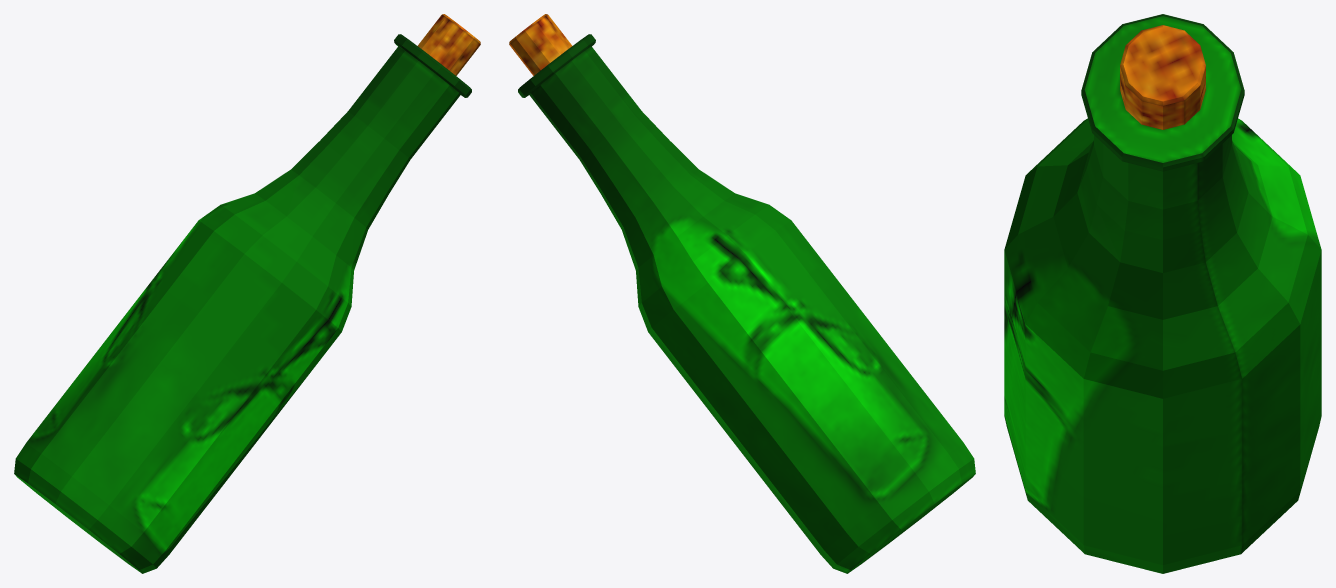
File: Bottiglia.FBX
3 renders of one model, left to right at view 1: azimuth 30°, elevation 25°; view 2: azimuth 150°, elevation 25°; view 3: azimuth 270°, elevation 25°, orthographic. The views are drawn at different scales.
Visible parts, largest first — view 1: Cylinder004; view 2: Cylinder004; view 3: Cylinder004.
Boxes of the visible parts, bbox=[...] form: Cylinder004: bbox=[14, 14, 480, 573]; Cylinder004: bbox=[509, 14, 975, 573]; Cylinder004: bbox=[1004, 14, 1321, 573].
Bounding box in the file's own units: 115 × 115 × 40.9.
